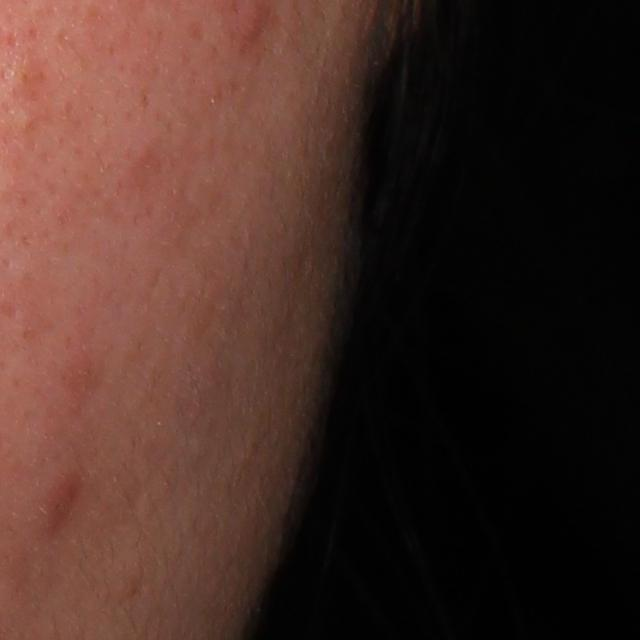papule: (41, 478, 80, 531)
